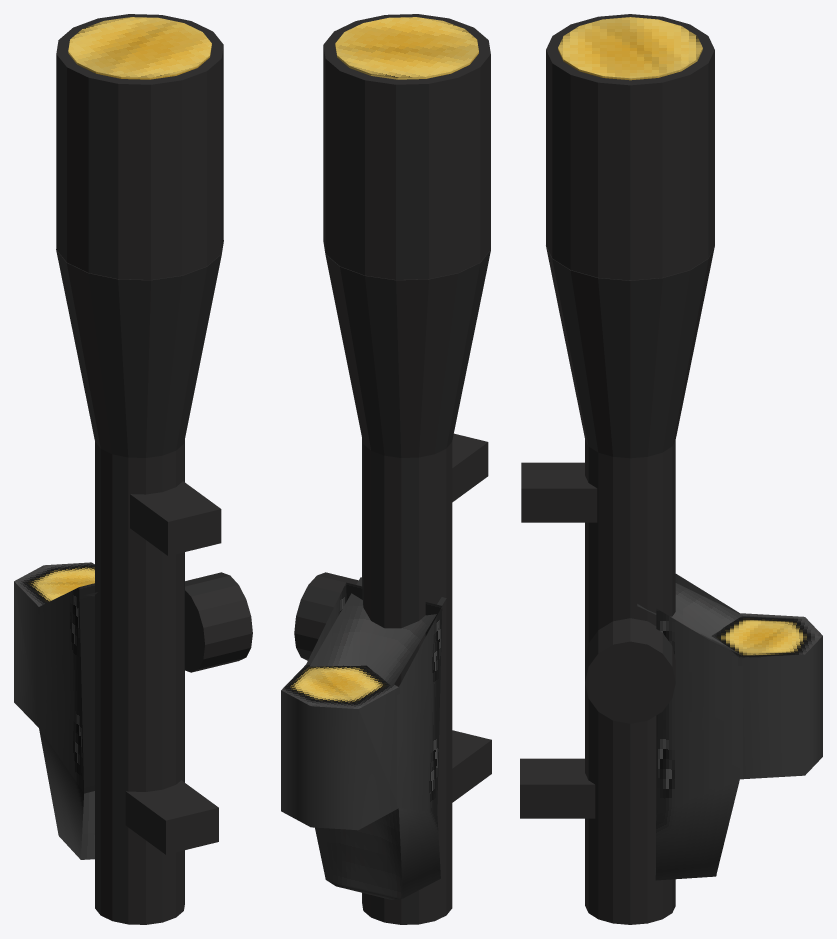
The model's file is x8ACOG.fbx.
The picture shows the model from 3 angles, left to right: view 1: azimuth 30°, elevation 25°; view 2: azimuth 150°, elevation 25°; view 3: azimuth 270°, elevation 25°; orthographic projection.
Parts seen in each view (by area): view 1: node_f23b70eb_3241_4d97_a4da_cdbfa0db56ec_mesh0; view 2: node_f23b70eb_3241_4d97_a4da_cdbfa0db56ec_mesh0; view 3: node_f23b70eb_3241_4d97_a4da_cdbfa0db56ec_mesh0.
Part boxes in pixels (bbox=[...]): node_f23b70eb_3241_4d97_a4da_cdbfa0db56ec_mesh0: bbox=[14, 14, 252, 924]; node_f23b70eb_3241_4d97_a4da_cdbfa0db56ec_mesh0: bbox=[281, 14, 491, 924]; node_f23b70eb_3241_4d97_a4da_cdbfa0db56ec_mesh0: bbox=[520, 14, 822, 924].
Size of the model in its own units: 0.0291 by 0.146 by 0.0467.
